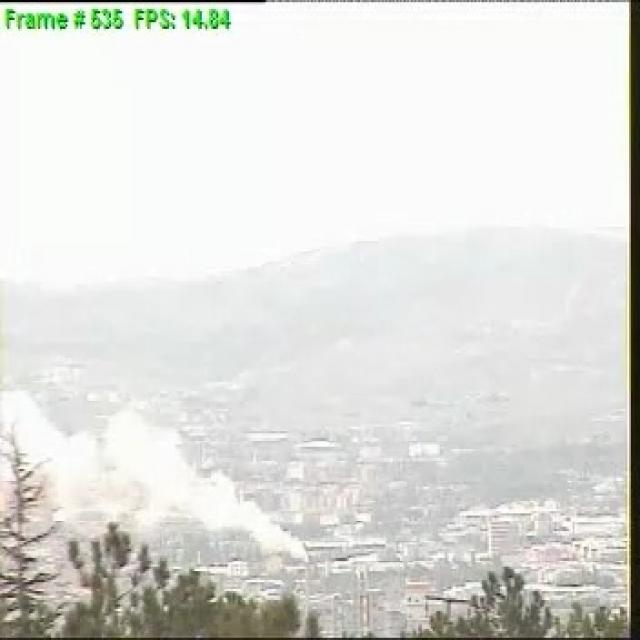smoke: (78, 400, 305, 539)
